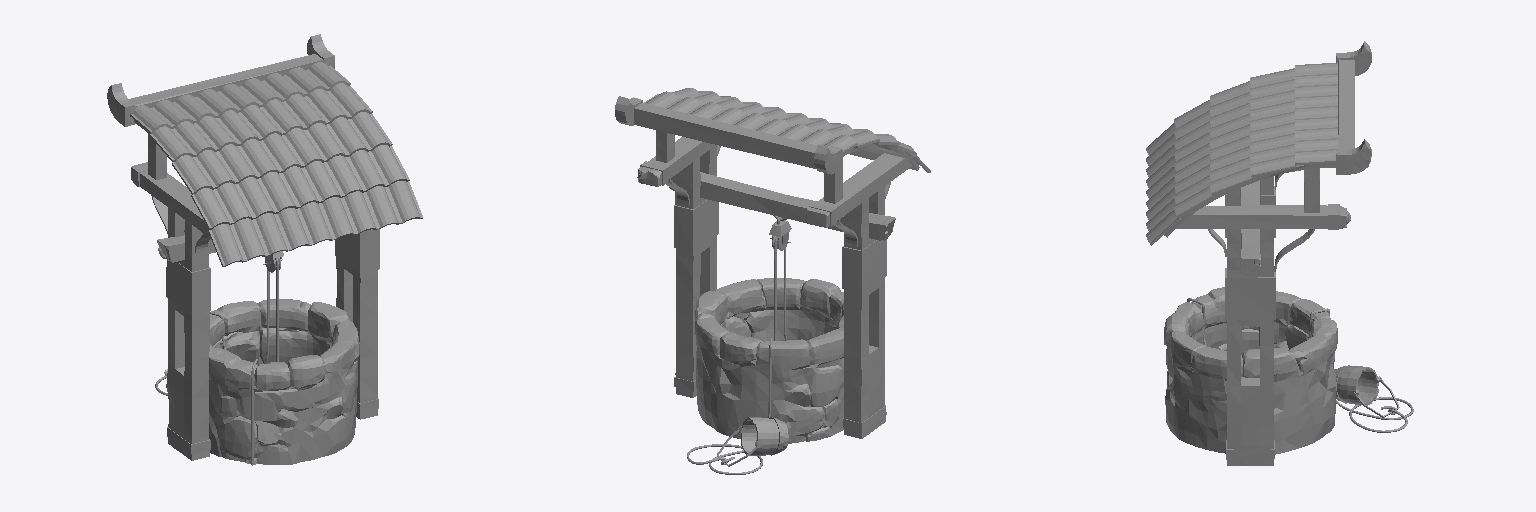
Rendered from well0.obj.
3 renders of one model, left to right at view 1: azimuth 30°, elevation 25°; view 2: azimuth 150°, elevation 25°; view 3: azimuth 270°, elevation 25°, orthographic.
Visible parts, largest first — view 1: Well_wood_low_Untitled.003; view 2: Well_wood_low_Untitled.003; view 3: Well_wood_low_Untitled.003.
Boxes of the visible parts, <box> form: Well_wood_low_Untitled.003: <box>107,34,422,465</box>; Well_wood_low_Untitled.003: <box>615,88,930,474</box>; Well_wood_low_Untitled.003: <box>1146,41,1413,465</box>.
Size of the model in its own units: 2.4 by 3.45 by 2.54.